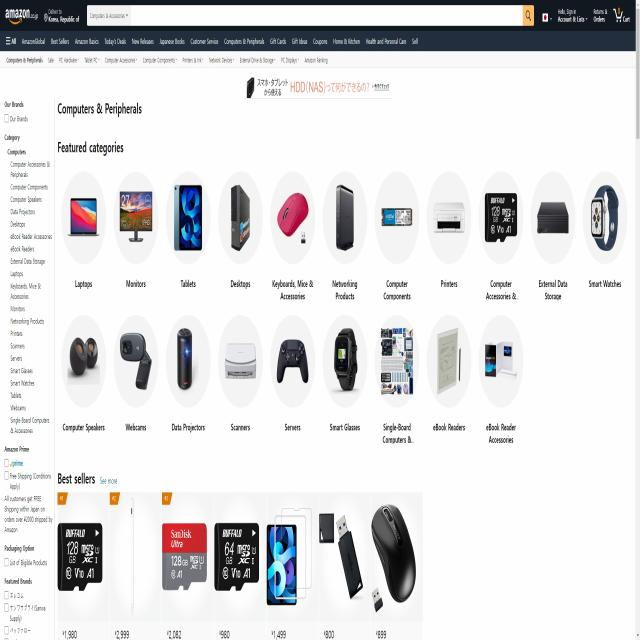menu-bar: (540, 2, 630, 27)
tab-bar: (4, 31, 423, 48), (5, 54, 332, 66)
